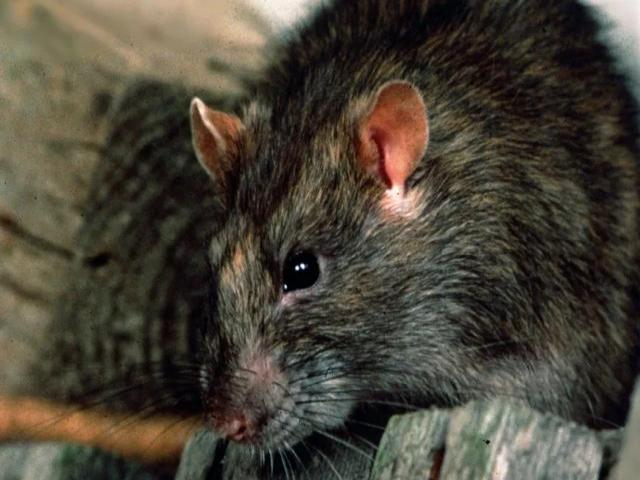Tikus: (182, 0, 640, 452)
